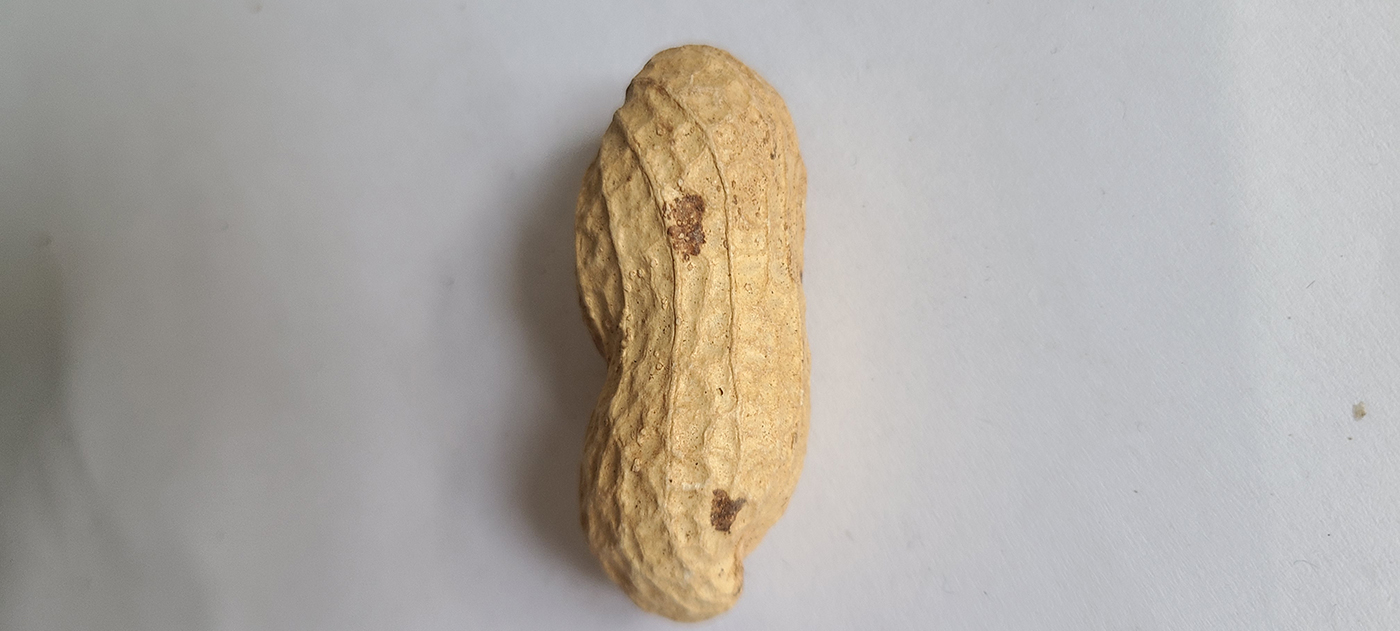h: (569, 37, 813, 624)
